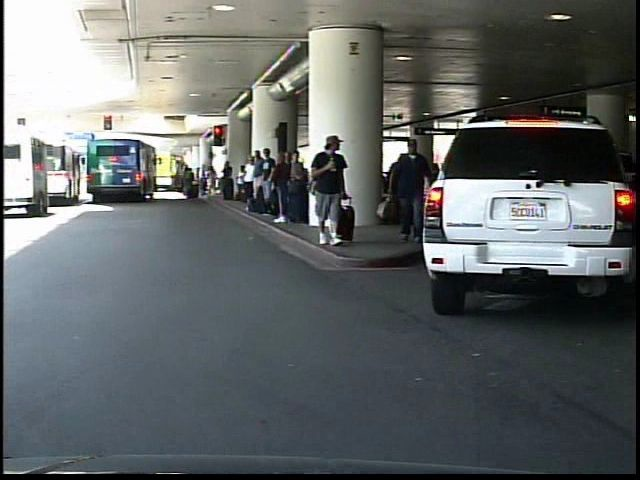person: (312, 129, 356, 247), (392, 131, 428, 248)
